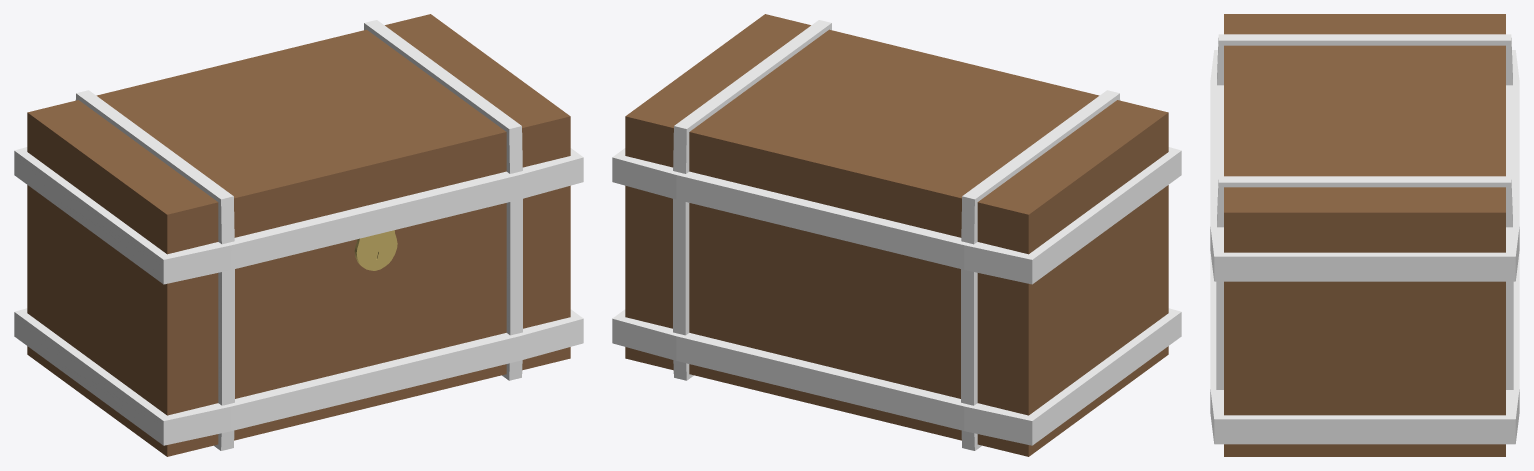
3 renders of one model, left to right at view 1: azimuth 30°, elevation 25°; view 2: azimuth 150°, elevation 25°; view 3: azimuth 270°, elevation 25°, orthographic.
Visible parts, largest first — view 1: Cube, Cube.001, Cube.002, Cube.004, Cube.003, Plane.001; view 2: Cube, Cube.001, Cube.002, Cube.004, Cube.003; view 3: Cube, Cube.001, Cube.002, Cube.004, Cube.003.
Boxes of the visible parts, x1,y1,x2,y2 form: Cube: (27, 14, 570, 456); Cube.001: (14, 147, 583, 284); Cube.002: (14, 308, 583, 445); Cube.004: (364, 20, 522, 380); Cube.003: (75, 90, 234, 450); Plane.001: (354, 230, 397, 270); Cube: (625, 14, 1168, 456); Cube.001: (612, 147, 1181, 284); Cube.002: (612, 308, 1181, 445); Cube.004: (673, 20, 831, 380); Cube.003: (961, 90, 1120, 450); Cube: (1224, 14, 1505, 456); Cube.001: (1210, 50, 1519, 281); Cube.002: (1210, 251, 1519, 444); Cube.004: (1216, 176, 1513, 389); Cube.003: (1217, 34, 1512, 85).
Size of the model in its own units: 200 by 114 by 126.
